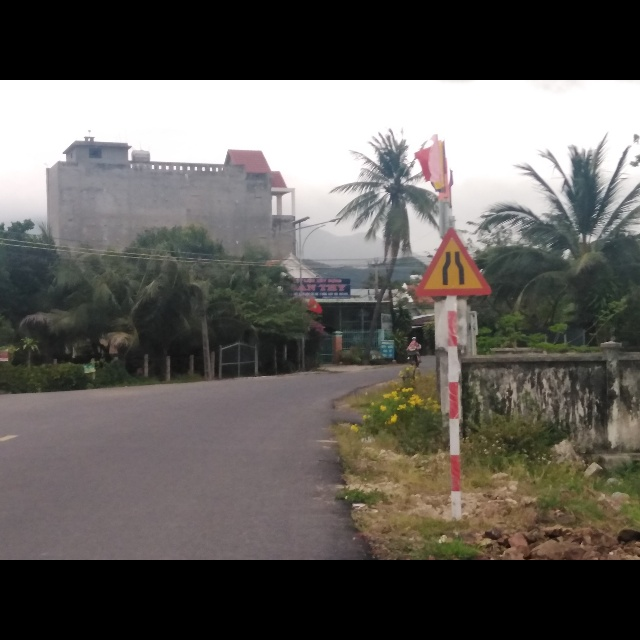Đường bị hẹp cả hai bên: (417, 227, 493, 298)
